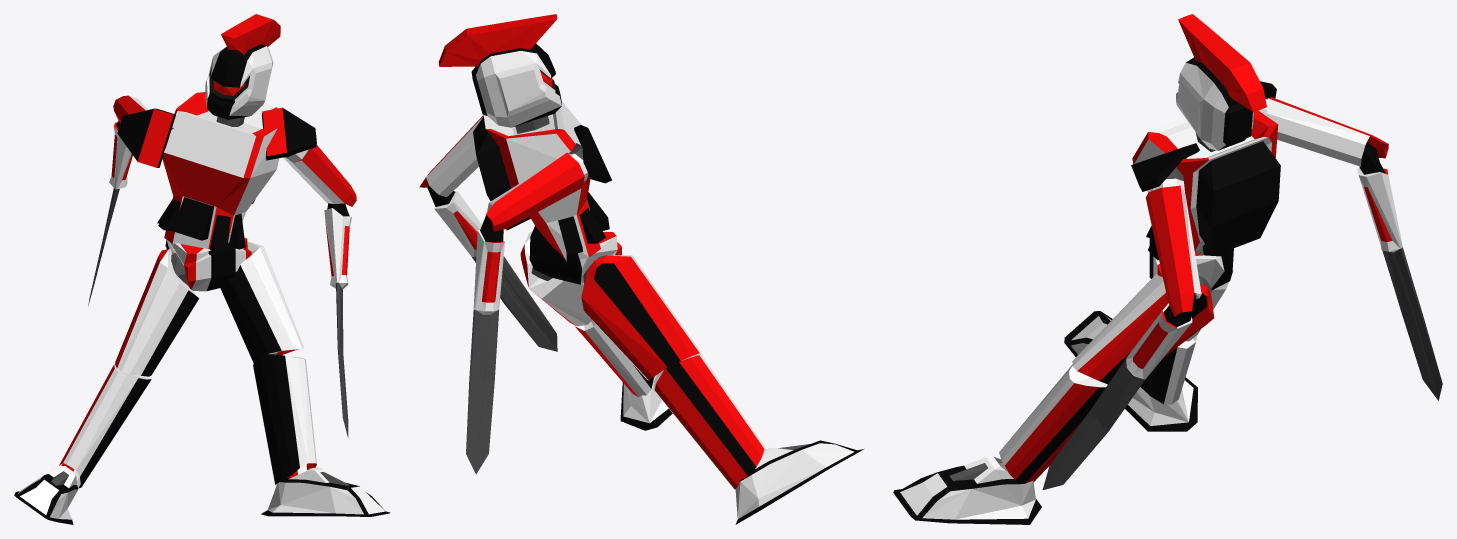
Rendered from robots_000003.obj.
3 views of the same model, side by side, from view 1: azimuth 30°, elevation 25°; view 2: azimuth 150°, elevation 25°; view 3: azimuth 270°, elevation 25° (orthographic). The views are drawn at different scales.
Visible parts, largest first — view 1: Chest_plate_Cube.004, R_Shin.002_Cube.029, Head_gladiator_Cube.024, R_Thigh.002_Cube.027, R_Thigh_Cube.005, R_Forearm.002_Cube.033, R_Shin_Cube.007, R_Foot.002_Cube.035, Pelvis_Cube.006, R_Arm.002_Cube.032, R_Foot_Cube, R_Arm.003_Cube.034 (+1 smaller); view 2: R_Forearm.001_Cube.028, Chest_plate_Cube.004, Head_gladiator_Cube.024, R_Thigh_Cube.005, R_Shin_Cube.007, R_Forearm.002_Cube.033, R_Foot_Cube, Pelvis_Cube.006, R_Thigh.002_Cube.027, R_Shin.002_Cube.029, R_Foot.002_Cube.035, R_Arm.002_Cube.032; view 3: Chest_plate_Cube.004, R_Forearm.002_Cube.033, R_Forearm.001_Cube.028, Head_gladiator_Cube.024, R_Foot.002_Cube.035, R_Shin.002_Cube.029, R_Thigh.002_Cube.027, R_Foot_Cube, R_Shin_Cube.007, R_Arm.003_Cube.034, Pelvis_Cube.006.
Part boxes in pixels (x1=…): Chest_plate_Cube.004: x1=157, y1=92, x2=279, y2=249; R_Shin.002_Cube.029: x1=253, y1=354, x2=316, y2=487; Head_gladiator_Cube.024: x1=205, y1=14, x2=280, y2=119; R_Thigh.002_Cube.027: x1=219, y1=241, x2=304, y2=363; R_Thigh_Cube.005: x1=115, y1=248, x2=198, y2=376; R_Forearm.002_Cube.033: x1=284, y1=145, x2=356, y2=438; R_Shin_Cube.007: x1=59, y1=362, x2=151, y2=488; R_Foot.002_Cube.035: x1=261, y1=467, x2=390, y2=516; Pelvis_Cube.006: x1=165, y1=237, x2=251, y2=291; R_Arm.002_Cube.032: x1=117, y1=108, x2=175, y2=167; R_Foot_Cube: x1=14, y1=466, x2=78, y2=524; R_Arm.003_Cube.034: x1=261, y1=107, x2=316, y2=162; R_Forearm.001_Cube.028: x1=466, y1=152, x2=584, y2=474; Chest_plate_Cube.004: x1=473, y1=101, x2=609, y2=260; Head_gladiator_Cube.024: x1=438, y1=14, x2=561, y2=127; R_Thigh_Cube.005: x1=581, y1=255, x2=700, y2=380; R_Shin_Cube.007: x1=653, y1=354, x2=764, y2=489; R_Forearm.002_Cube.033: x1=419, y1=115, x2=557, y2=351; R_Foot_Cube: x1=735, y1=440, x2=863, y2=524; Pelvis_Cube.006: x1=529, y1=226, x2=621, y2=284; R_Thigh.002_Cube.027: x1=520, y1=232, x2=592, y2=326; R_Shin.002_Cube.029: x1=574, y1=320, x2=653, y2=397; R_Foot.002_Cube.035: x1=620, y1=375, x2=672, y2=430; R_Arm.002_Cube.032: x1=568, y1=125, x2=611, y2=183; Chest_plate_Cube.004: x1=1132, y1=110, x2=1280, y2=260; R_Forearm.002_Cube.033: x1=1042, y1=185, x2=1201, y2=489; R_Forearm.001_Cube.028: x1=1266, y1=97, x2=1442, y2=400; Head_gladiator_Cube.024: x1=1176, y1=14, x2=1266, y2=150; R_Foot.002_Cube.035: x1=893, y1=456, x2=1041, y2=524; R_Shin.002_Cube.029: x1=999, y1=364, x2=1107, y2=482; R_Thigh.002_Cube.027: x1=1072, y1=274, x2=1214, y2=384; R_Foot_Cube: x1=1064, y1=311, x2=1197, y2=431; R_Shin_Cube.007: x1=1141, y1=335, x2=1197, y2=404; R_Arm.003_Cube.034: x1=1131, y1=143, x2=1199, y2=192; Pelvis_Cube.006: x1=1149, y1=238, x2=1233, y2=290.
Bounding box in the file's own units: 2.65 × 2.93 × 2.84.
